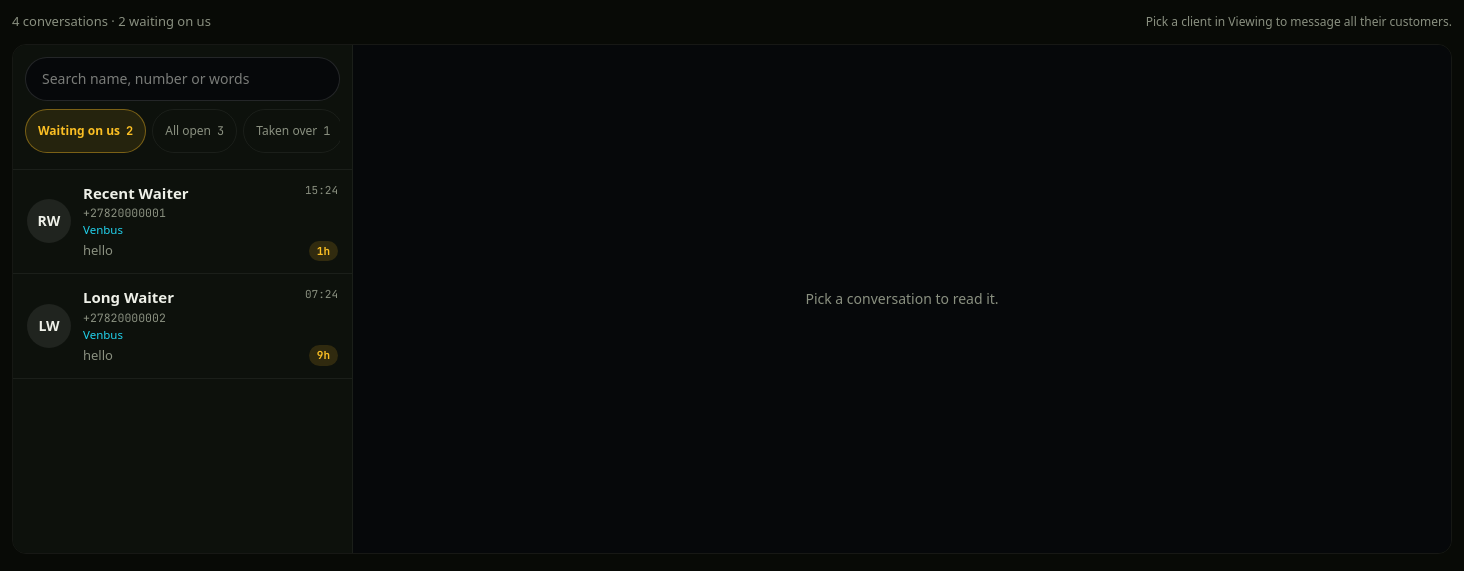
Scenario: a conversation › has no message box while the assistant owns it: Take over first
Click the text "Long Waiter" at (128, 297), box [83,286,174,308]
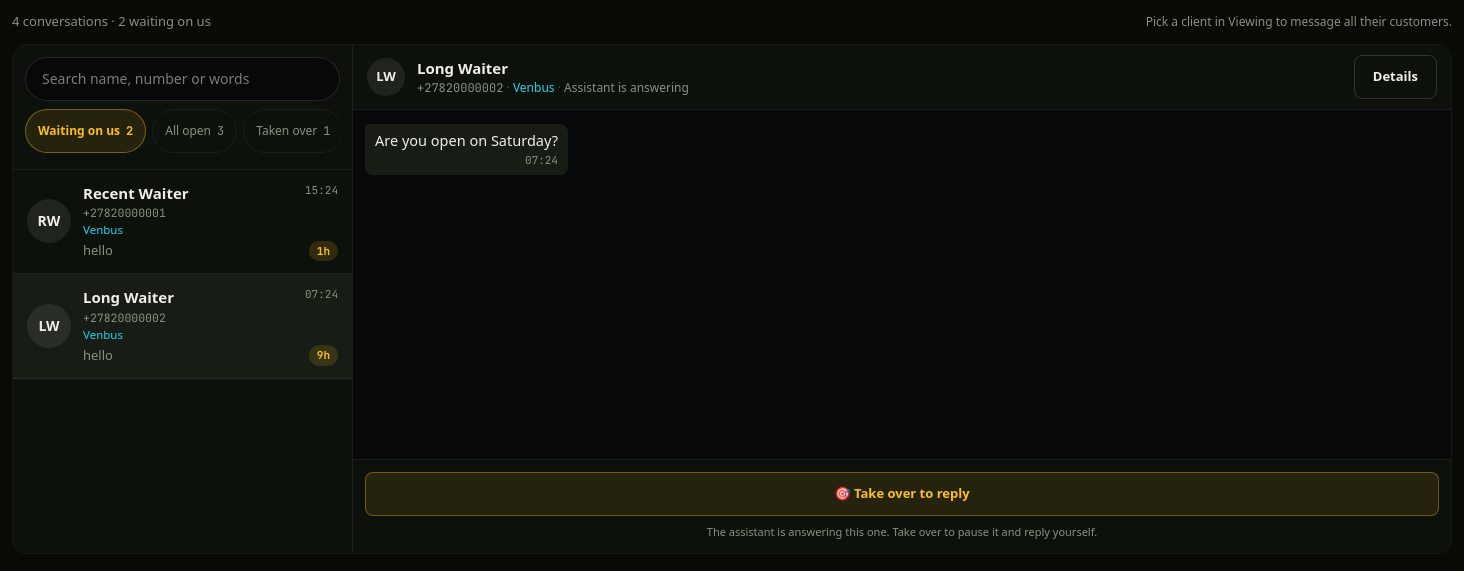
Result: the text "Are you open on Saturday?" is shown at [375,130,558,150]
Result: the button "🎯 Take over to reply" is shown at [365,472,1439,516]
